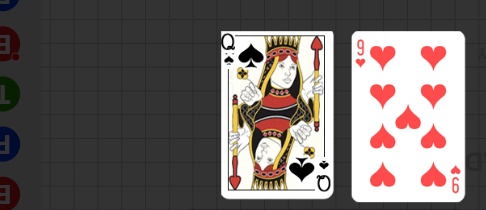9H: (450, 164, 462, 195)
